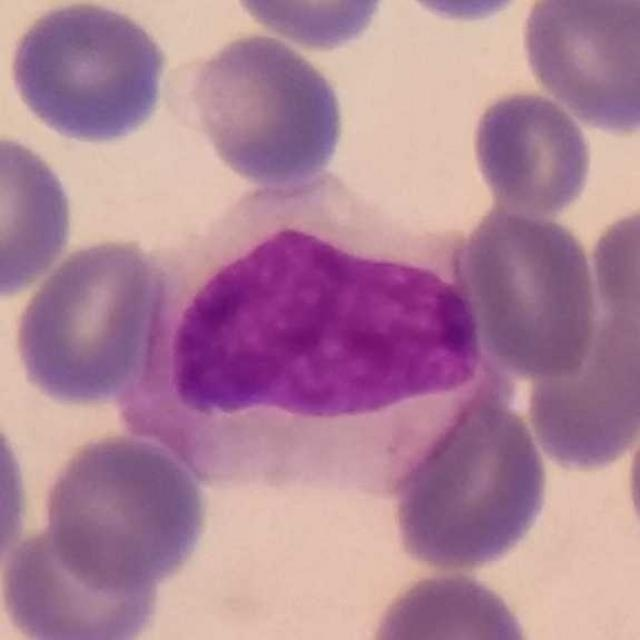Monocyte: (124, 177, 500, 494)
RBC: (385, 393, 554, 575), (8, 232, 170, 408), (38, 430, 212, 592), (183, 28, 350, 188), (458, 204, 604, 382), (2, 0, 174, 147), (0, 517, 166, 640), (520, 302, 640, 472), (516, 0, 640, 135), (468, 87, 596, 217), (0, 128, 79, 301), (360, 565, 540, 640), (228, 0, 390, 52), (586, 199, 640, 335), (0, 398, 35, 586), (545, 0, 640, 41), (386, 0, 521, 28)
